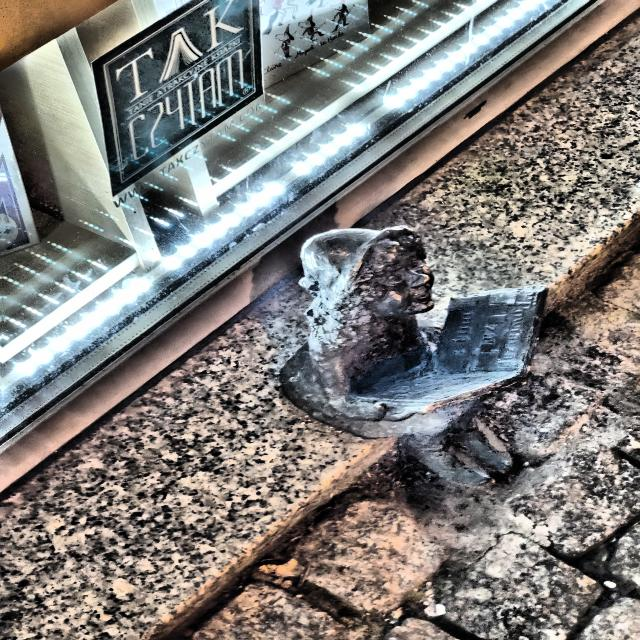Ksiegarka: (265, 221, 557, 498)
